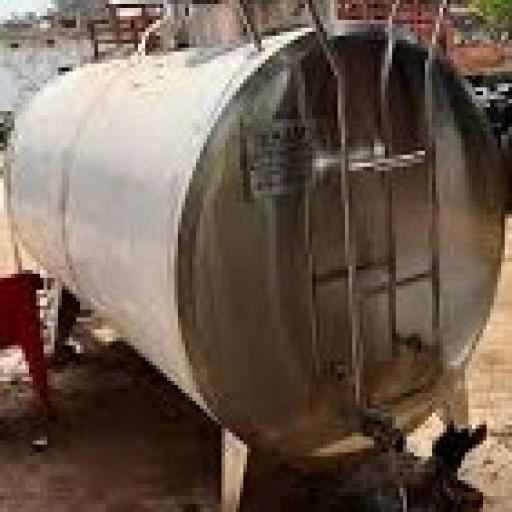silo: (7, 0, 508, 508)
